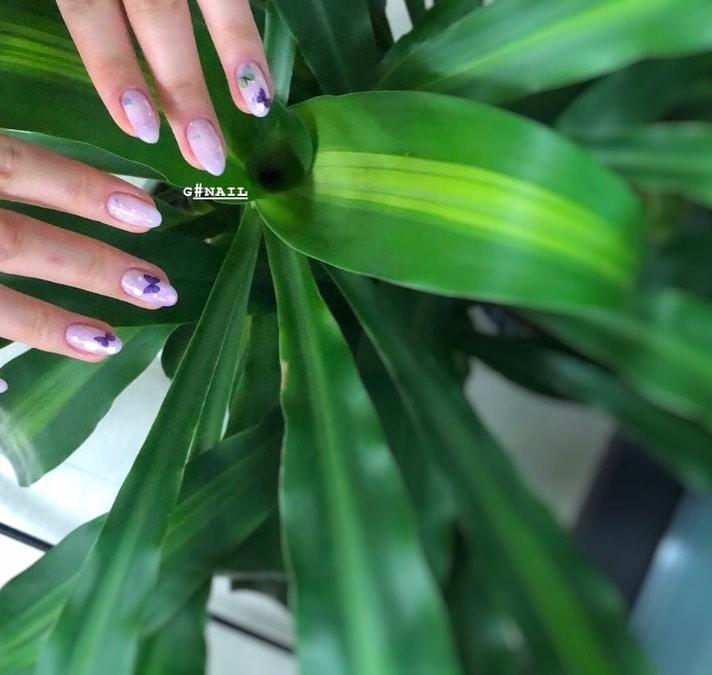nail: (184, 116, 226, 176), (119, 266, 178, 307), (119, 86, 160, 144), (233, 59, 273, 117), (105, 190, 162, 229), (64, 321, 122, 356), (0, 375, 7, 396)
